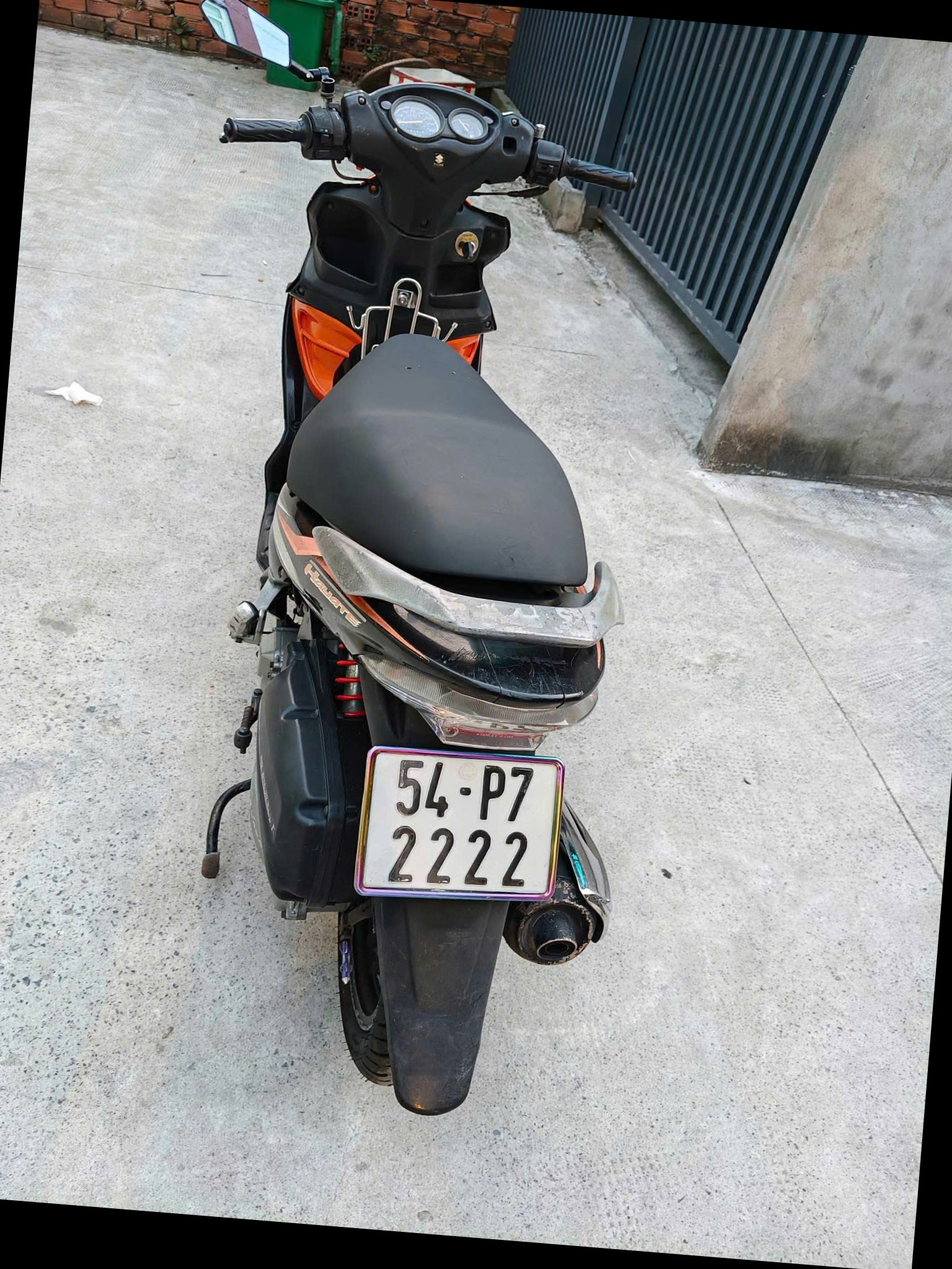Bien-so: (398, 757, 597, 921)
